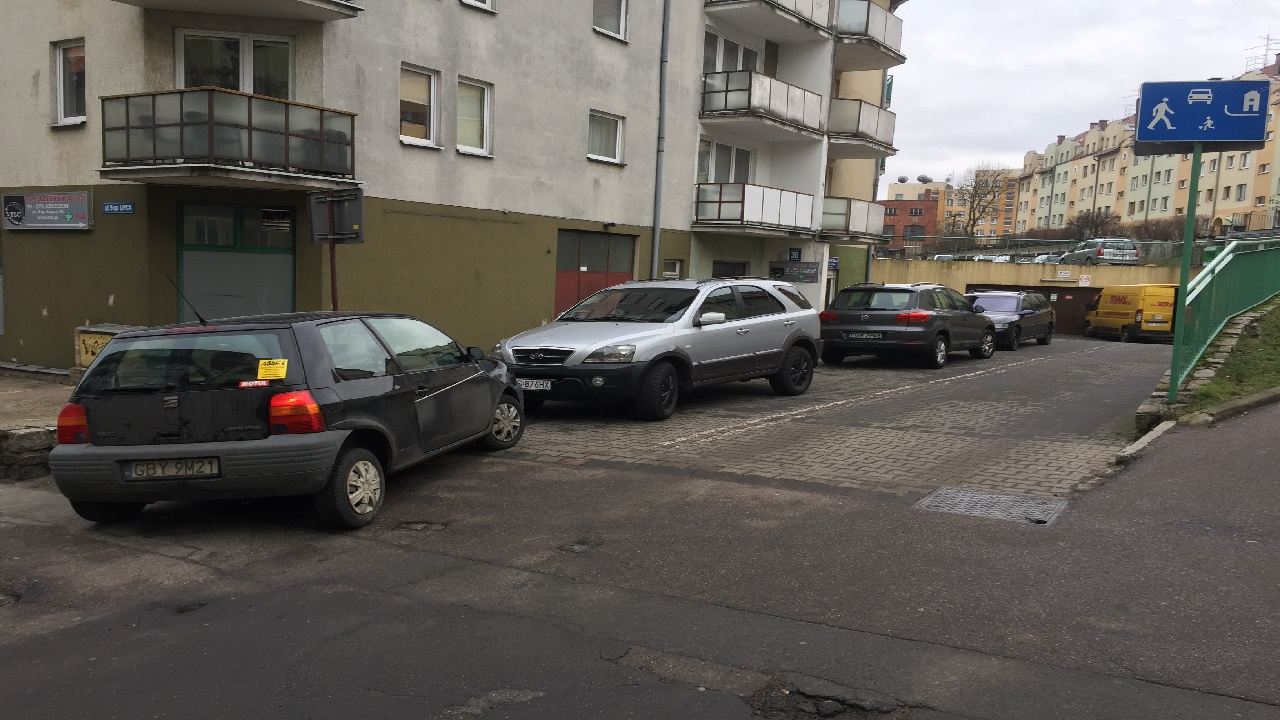D40: (1137, 81, 1270, 140)
